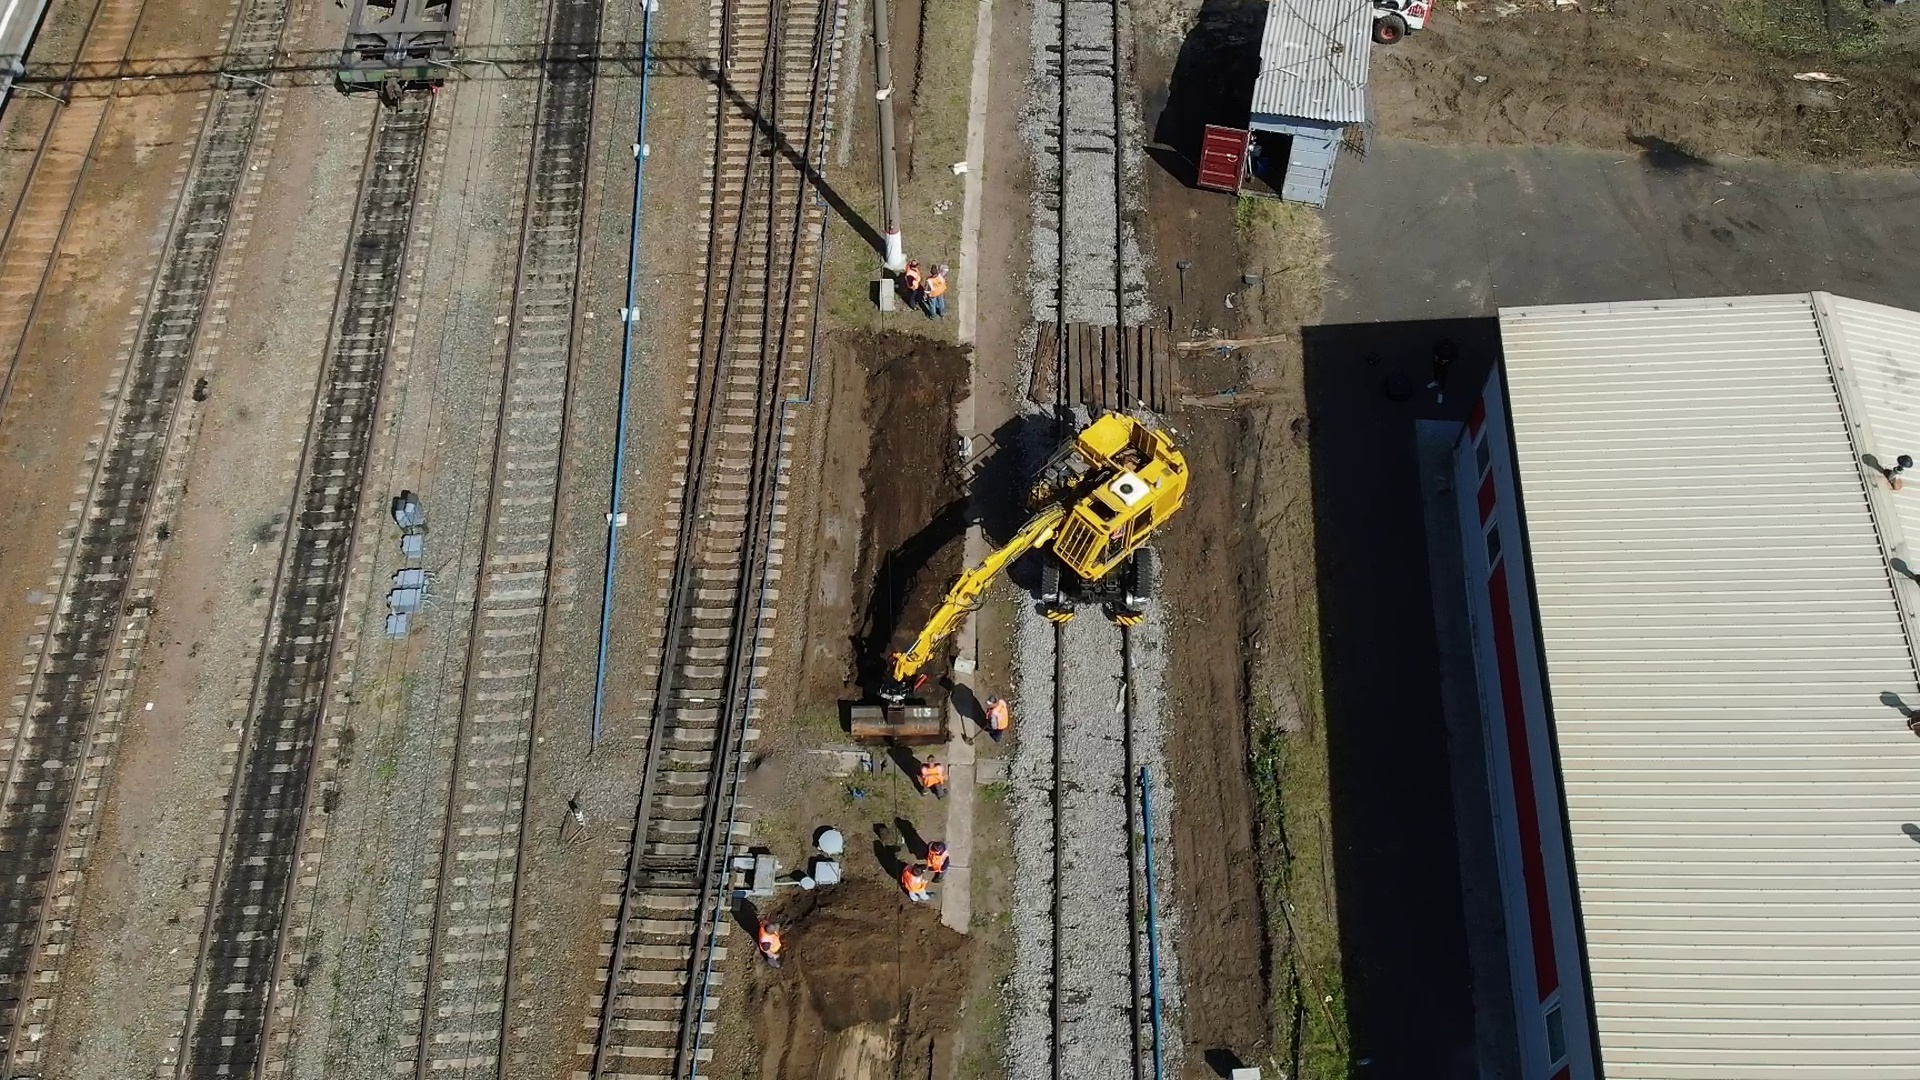kjtv: (982, 392, 1193, 617)
